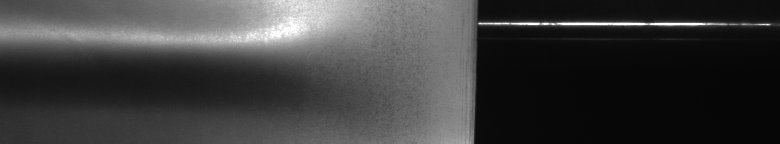ke: (4, 24, 310, 64)
